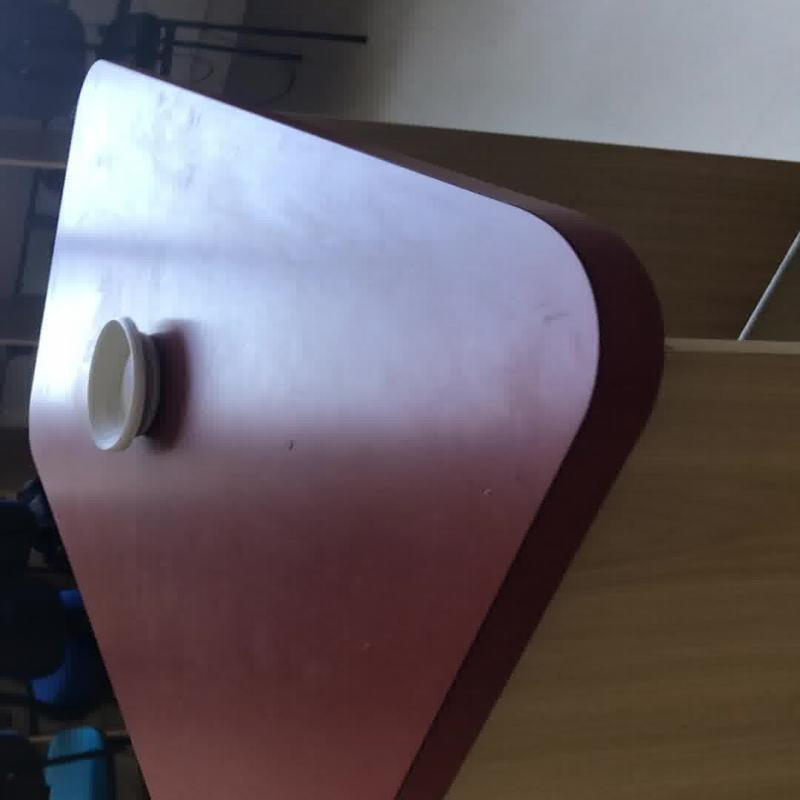plate: (24, 58, 664, 798), (85, 315, 158, 451)
